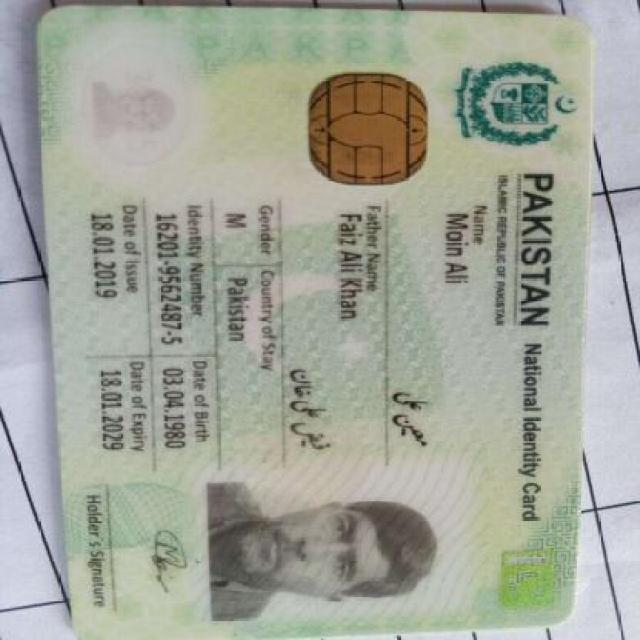Front: (28, 6, 584, 631)
